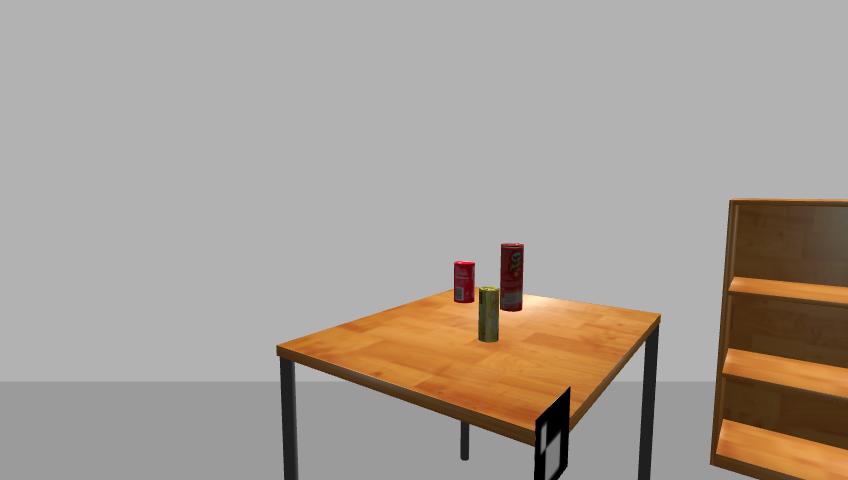aruco marker: (531, 387, 574, 480)
biscuits pack: (478, 286, 501, 343)
bookshelf: (706, 199, 848, 479)
coke can: (452, 261, 476, 304)
dinner table: (268, 287, 669, 480)
pringles can: (499, 242, 525, 314)
